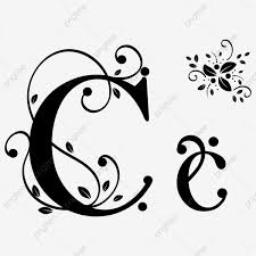c: (14, 41, 164, 233), (162, 129, 232, 225)
